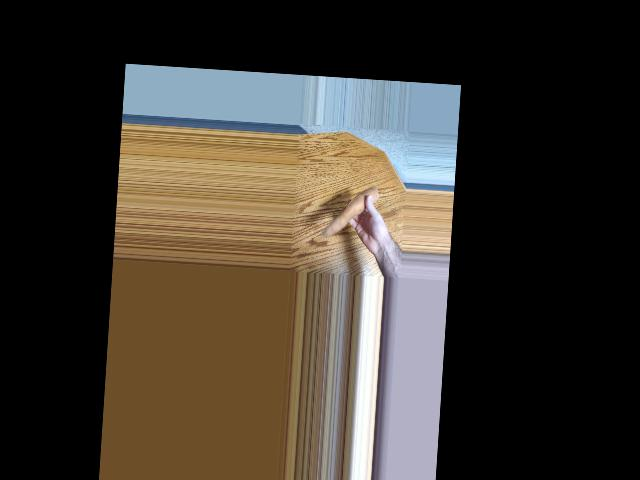sweet_potato: (323, 185, 380, 239)
